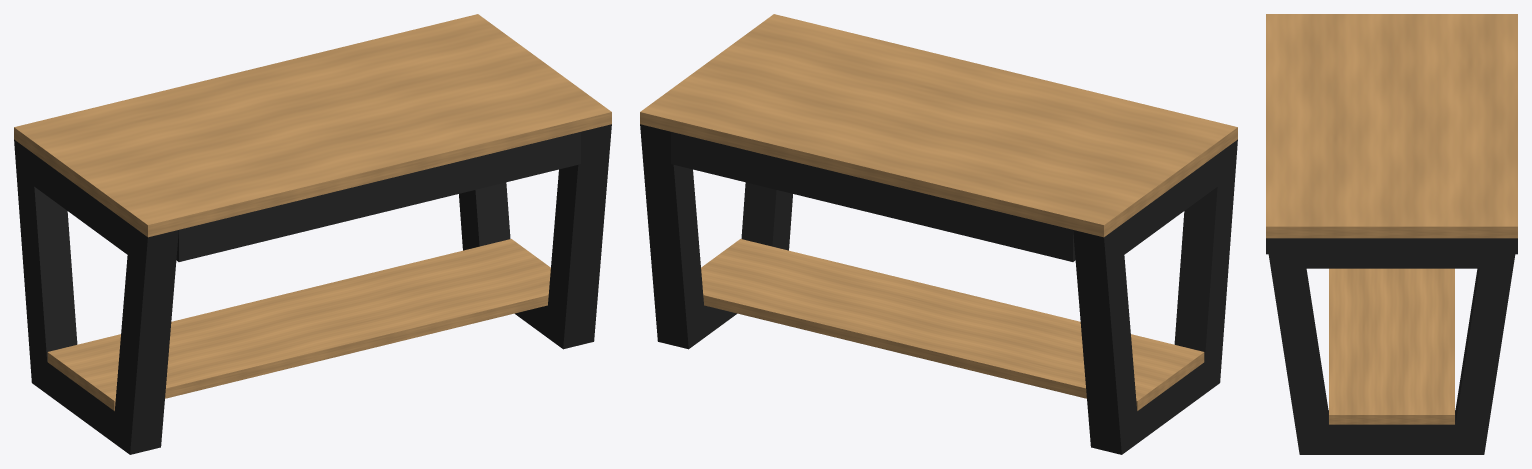
The model's file is mesa-living-nord-estante.glb.
3 views of the same model, side by side, from view 1: azimuth 30°, elevation 25°; view 2: azimuth 150°, elevation 25°; view 3: azimuth 270°, elevation 25° (orthographic). The views are drawn at different scales.
Visible parts, largest first — view 1: Tapa de madera maciza 120 x 60 x 3 cm, Patas inclinadas con cortes a inglete, Estante inferior de madera de 120 cm (proporción aproximada), Larguero longitudinal superior de hierro 8 x 8 mm, Travesaño superior del trapecio, perfil 8 cm, Travesaño inferior del trapecio, perfil 8 cm (×2); view 2: Tapa de madera maciza 120 x 60 x 3 cm, Patas inclinadas con cortes a inglete, Estante inferior de madera de 120 cm (proporción aproximada), Larguero longitudinal superior de hierro 8 x 8 mm, Travesaño superior del trapecio, perfil 8 cm, Travesaño inferior del trapecio, perfil 8 cm; view 3: Tapa de madera maciza 120 x 60 x 3 cm, Estante inferior de madera de 120 cm (proporción aproximada), Patas inclinadas con cortes a inglete, Travesaño superior del trapecio, perfil 8 cm, Travesaño inferior del trapecio, perfil 8 cm.
Boxes of the visible parts, x1,y1,x2,y2 form: Tapa de madera maciza 120 x 60 x 3 cm: (14, 14, 611, 237); Patas inclinadas con cortes a inglete: (14, 124, 611, 454); Estante inferior de madera de 120 cm (proporción aproximada): (47, 239, 550, 410); Larguero longitudinal superior de hierro 8 x 8 mm: (176, 132, 580, 261); Travesaño superior del trapecio, perfil 8 cm: (32, 153, 138, 262); Travesaño inferior del trapecio, perfil 8 cm (×2): (47, 305, 554, 446); Tapa de madera maciza 120 x 60 x 3 cm: (640, 14, 1237, 237); Patas inclinadas con cortes a inglete: (640, 124, 1237, 454); Estante inferior de madera de 120 cm (proporción aproximada): (701, 239, 1204, 410); Larguero longitudinal superior de hierro 8 x 8 mm: (671, 132, 1075, 261); Travesaño superior del trapecio, perfil 8 cm: (1113, 146, 1228, 254); Travesaño inferior del trapecio, perfil 8 cm: (1137, 362, 1204, 441); Tapa de madera maciza 120 x 60 x 3 cm: (1266, 14, 1517, 238); Estante inferior de madera de 120 cm (proporción aproximada): (1329, 268, 1454, 424); Patas inclinadas con cortes a inglete: (1266, 238, 1517, 454); Travesaño superior del trapecio, perfil 8 cm: (1283, 238, 1500, 268); Travesaño inferior del trapecio, perfil 8 cm: (1316, 410, 1467, 454).
Bounding box in the file's own units: 1.2 × 0.6 × 0.6.
Materials: 2 (1 with a texture image).
